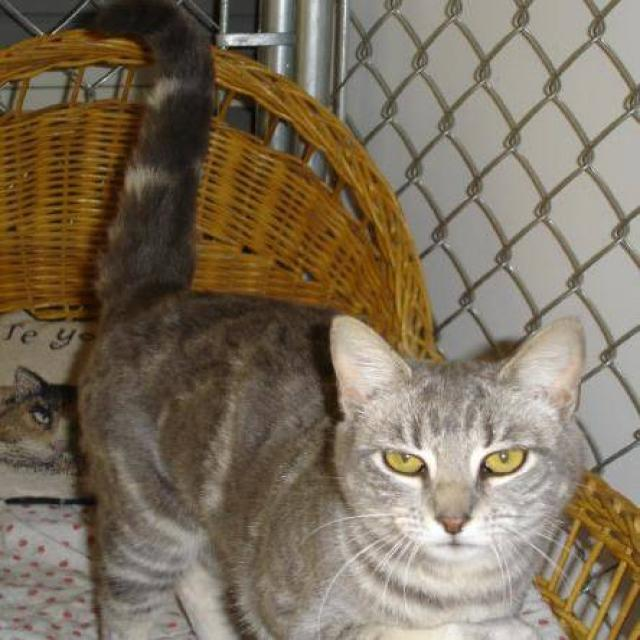cat: (68, 0, 597, 639)
